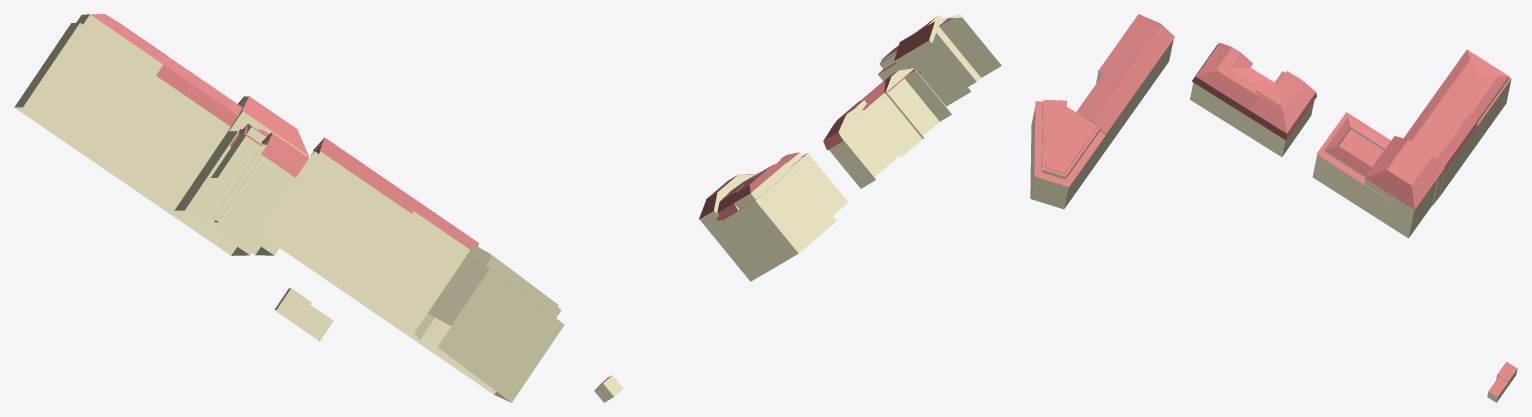
File: tile_079.glb
The picture shows the model from 3 angles, left to right: view 1: azimuth 30°, elevation 25°; view 2: azimuth 150°, elevation 25°; view 3: azimuth 270°, elevation 25°; orthographic projection. The views are drawn at different scales.
Parts seen in each view (by area): view 1: Batched_Building_ID_1584DAF8-95E4-46AD-AE6F-E0D735954557; view 2: Batched_Building_ID_1584DAF8-95E4-46AD-AE6F-E0D735954557; view 3: Batched_Building_ID_1584DAF8-95E4-46AD-AE6F-E0D735954557.
Part boxes in pixels (x1,y1,x2,y2): Batched_Building_ID_1584DAF8-95E4-46AD-AE6F-E0D735954557: (14, 14, 564, 402); Batched_Building_ID_1584DAF8-95E4-46AD-AE6F-E0D735954557: (594, 14, 1001, 402); Batched_Building_ID_1584DAF8-95E4-46AD-AE6F-E0D735954557: (1030, 14, 1517, 402).
Bounding box in the file's own units: 89.41 × 114 × 166.
